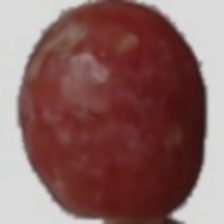grapes: (44, 28, 202, 203)
